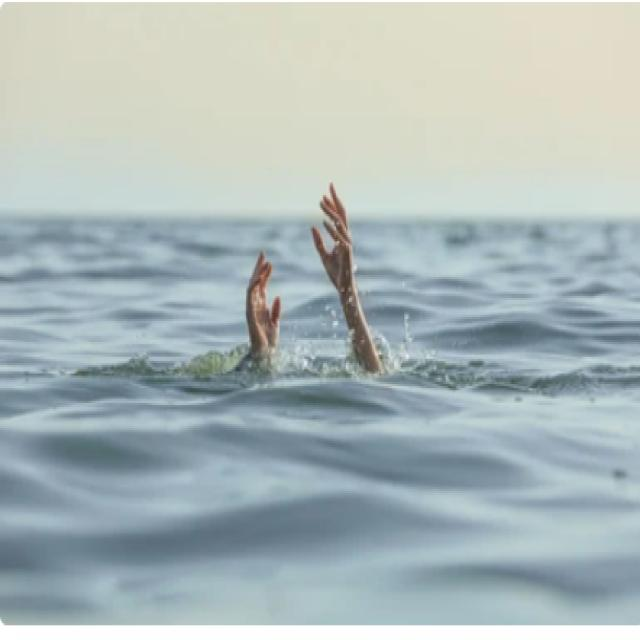Out of Water: (237, 181, 390, 381)
